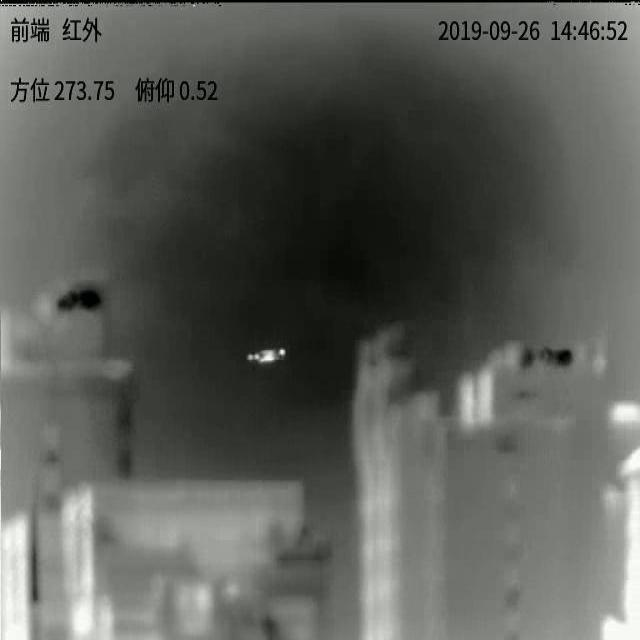drone: (247, 348, 286, 364)
